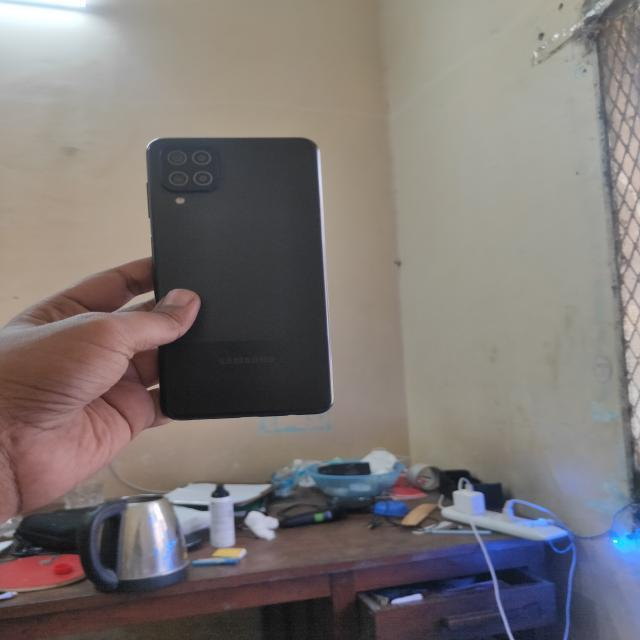Phone: (142, 131, 341, 424)
